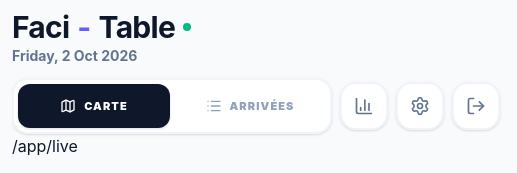
Test: HostHeader logout › clears the session and routes to login
What coordinates should you click on to do the following:
click the button named "Se déconnecter"
I would click on:
 (476, 106)
Its box is [452,82,500,130].
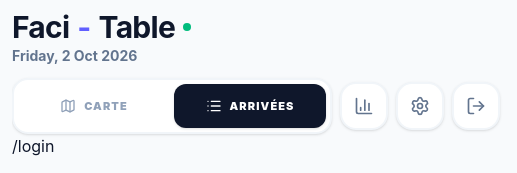
Result: the text with test id "location" reads "/login" at [12,136,54,156]
